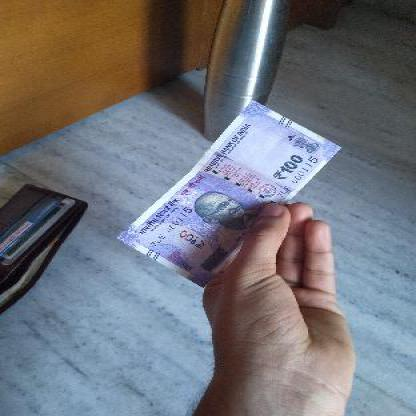New100Front: (116, 99, 345, 289)
